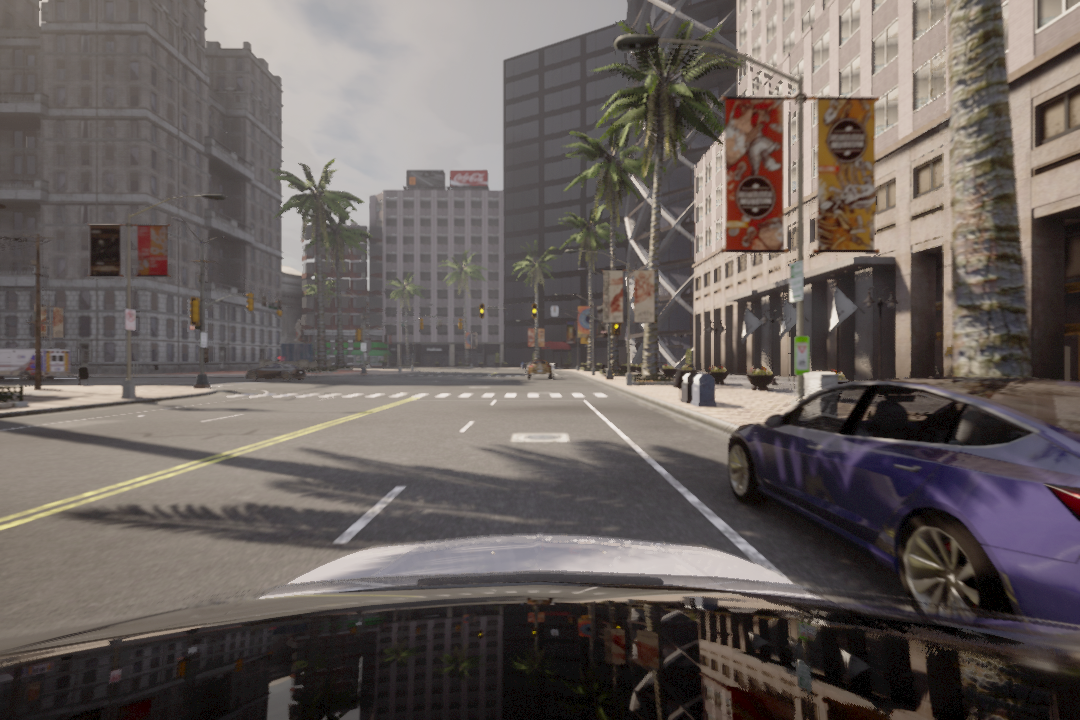TrafficLight: (610, 319, 621, 337), (530, 301, 538, 320), (478, 303, 486, 321)
TrafficSign_nstop: (124, 308, 137, 334)
walkside: (212, 391, 615, 402)
